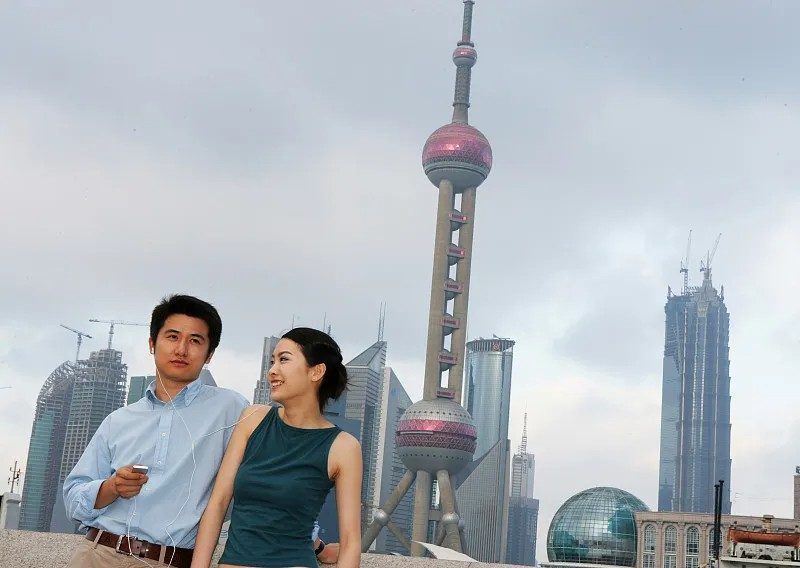Oriental: (361, 1, 495, 552)
